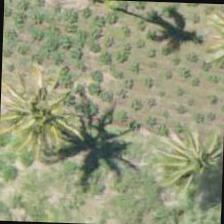Kelapa_Sawit: (0, 63, 94, 156), (142, 119, 224, 212)
